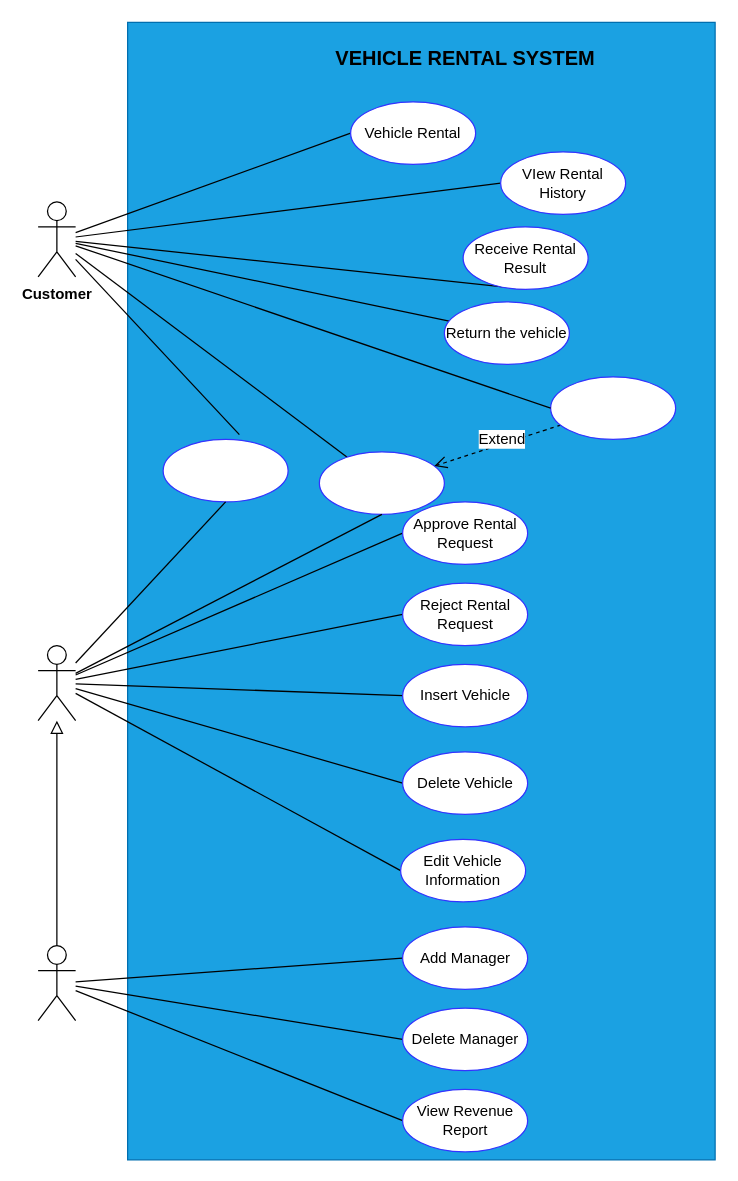
Some shapes in this 738 by 1181 pixel diagram are drawn without their labels. Each missing label, with the centre of its shape:
"Admin" belongs at [56,982].
"Log In" belongs at [381,482].
"Manager" belongs at [56,682].
"Register An Account" belongs at [612,407].
"View Vehicle List" belongs at [225,470].
